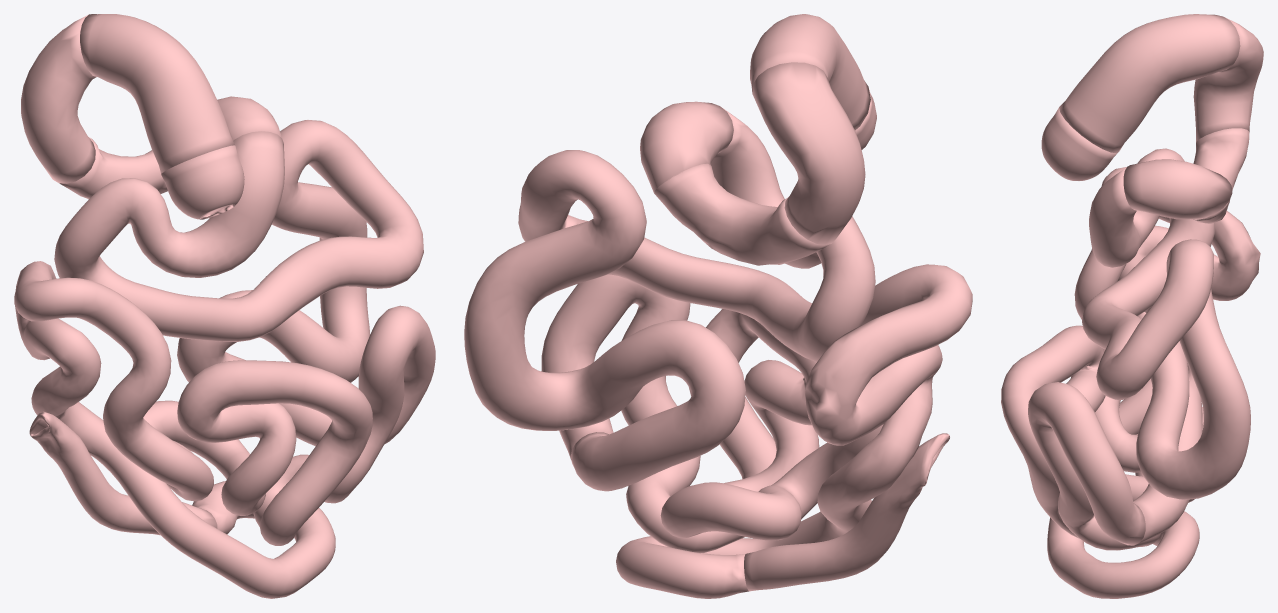
The model's file is vh_f_small_intestine-80.fbx.
The picture shows the model from 3 angles, left to right: view 1: azimuth 30°, elevation 25°; view 2: azimuth 150°, elevation 25°; view 3: azimuth 270°, elevation 25°; orthographic projection. The views are drawn at different scales.
Parts seen in each view (by area): view 1: VH_F_ileum, VH_F_jejenum, VH_F_duodenum_superior, VH_F_duodenum_descending, VH_F_ileum_terminal, VH_F_duodenal_ampulla, VH_F_duodenum_horizontal, VH_F_duodenum_ascending; view 2: VH_F_ileum, VH_F_jejenum, VH_F_duodenum_descending, VH_F_ileum_terminal, VH_F_duodenum_horizontal, VH_F_duodenum_superior, VH_F_duodenum_ascending; view 3: VH_F_jejenum, VH_F_ileum, VH_F_duodenum_superior, VH_F_duodenum_ascending, VH_F_duodenum_descending, VH_F_duodenal_ampulla, VH_F_duodenum_horizontal.
Boxes of the visible parts, bbox=[...] form: VH_F_ileum: bbox=[14, 261, 435, 598]; VH_F_jejenum: bbox=[54, 120, 423, 446]; VH_F_duodenum_superior: bbox=[80, 14, 234, 173]; VH_F_duodenum_descending: bbox=[21, 14, 96, 183]; VH_F_ileum_terminal: bbox=[29, 411, 217, 535]; VH_F_duodenal_ampulla: bbox=[161, 145, 244, 219]; VH_F_duodenum_horizontal: bbox=[59, 137, 167, 198]; VH_F_duodenum_ascending: bbox=[217, 96, 281, 140]; VH_F_ileum: bbox=[541, 264, 972, 598]; VH_F_jejenum: bbox=[464, 107, 875, 491]; VH_F_duodenum_descending: bbox=[752, 62, 865, 245]; VH_F_ileum_terminal: bbox=[744, 433, 949, 591]; VH_F_duodenum_horizontal: bbox=[654, 163, 830, 265]; VH_F_duodenum_superior: bbox=[750, 14, 870, 130]; VH_F_duodenum_ascending: bbox=[640, 101, 733, 193]; VH_F_jejenum: bbox=[1082, 148, 1250, 545]; VH_F_ileum: bbox=[1001, 167, 1260, 598]; VH_F_duodenum_superior: bbox=[1059, 14, 1240, 153]; VH_F_duodenum_ascending: bbox=[1123, 159, 1232, 219]; VH_F_duodenum_descending: bbox=[1193, 17, 1263, 142]; VH_F_duodenal_ampulla: bbox=[1041, 108, 1119, 180]; VH_F_duodenum_horizontal: bbox=[1193, 128, 1249, 223].
Bounding box in the file's own units: 16.16 × 21.72 × 10.
